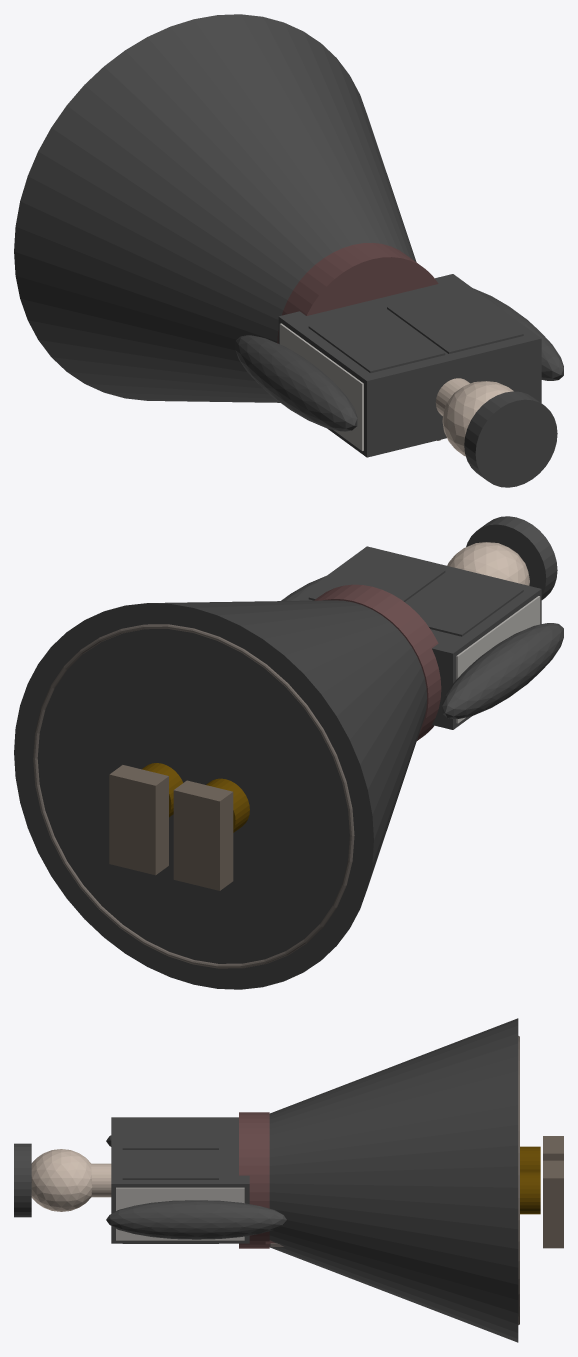
The model's file is MASTER_075_STAGE3_DETAIL.glb.
3 renders of one model, top to bottom at view 1: azimuth 30°, elevation 25°; view 2: azimuth 150°, elevation 25°; view 3: azimuth 270°, elevation 25°, orthographic. The views are drawn at different scales.
Visible parts, largest first — view 1: slot_lower_main__fund_i_gjatë, slot_upper_inner__këmishë, slot_headwear__mbulesë_koke, slot_waist__brez, slot_upper_inner_sleeve_L, slot_upper_outer__jelek_L, slot_upper_outer__jelek_R, mannequin_torso, mannequin_head, slot_upper_inner_sleeve_R; view 2: slot_lower_main__fund_i_gjatë, slot_footwear__opinga_L, slot_footwear__opinga_R, slot_upper_inner_sleeve_L, detail_skirt_hem, slot_upper_inner__këmishë, slot_upper_outer__jelek_L, slot_waist__brez, slot_headwear__mbulesë_koke, slot_upper_outer__jelek_R, mannequin_head, mannequin_torso (+2 smaller); view 3: slot_lower_main__fund_i_gjatë, slot_upper_inner_sleeve_R, slot_upper_inner__këmishë, mannequin_head, slot_waist__brez, slot_upper_outer__jelek_R, slot_upper_outer__jelek_L, mannequin_torso, slot_footwear__opinga_R, slot_headwear__mbulesë_koke, slot_legwear__çorape_R, mannequin_neck (+3 smaller).
Boxes of the visible parts, x1,y1,x2,y2 form: slot_lower_main__fund_i_gjatë: [14, 14, 416, 402]; slot_upper_inner__këmishë: [278, 274, 541, 457]; slot_headwear__mbulesë_koke: [464, 391, 557, 487]; slot_waist__brez: [277, 243, 438, 343]; slot_upper_inner_sleeve_L: [235, 335, 357, 431]; slot_upper_outer__jelek_L: [308, 308, 445, 373]; slot_upper_outer__jelek_R: [387, 289, 523, 353]; mannequin_torso: [279, 323, 363, 450]; mannequin_head: [442, 381, 513, 456]; slot_upper_inner_sleeve_R: [473, 288, 563, 380]; slot_lower_main__fund_i_gjatë: [14, 600, 427, 989]; slot_footwear__opinga_L: [173, 780, 233, 890]; slot_footwear__opinga_R: [109, 765, 168, 875]; slot_upper_inner_sleeve_L: [442, 623, 563, 718]; detail_skirt_hem: [33, 624, 354, 968]; slot_upper_inner__këmishë: [293, 546, 541, 729]; slot_upper_outer__jelek_L: [406, 571, 523, 636]; slot_waist__brez: [314, 584, 441, 740]; slot_headwear__mbulesë_koke: [466, 516, 557, 599]; slot_upper_outer__jelek_R: [308, 552, 445, 601]; mannequin_head: [447, 542, 529, 585]; mannequin_torso: [456, 596, 540, 723]; slot_lower_main__fund_i_gjatë: [269, 1018, 518, 1342]; slot_upper_inner_sleeve_R: [106, 1200, 286, 1239]; slot_upper_inner__këmishë: [111, 1117, 249, 1243]; mannequin_head: [31, 1149, 92, 1211]; slot_waist__brez: [239, 1112, 269, 1248]; slot_upper_outer__jelek_R: [122, 1150, 218, 1243]; slot_upper_outer__jelek_L: [122, 1120, 218, 1149]; mannequin_torso: [116, 1187, 244, 1240]; slot_footwear__opinga_R: [543, 1160, 563, 1248]; slot_headwear__mbulesë_koke: [14, 1143, 31, 1217]; slot_legwear__çorape_R: [520, 1171, 540, 1214]; mannequin_neck: [91, 1163, 111, 1197].
Size of the model in its own units: 1.01 by 1.01 by 1.71.
